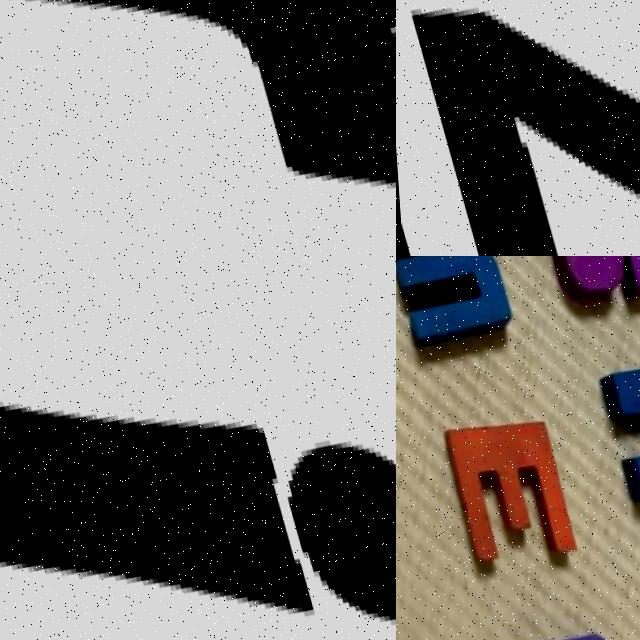E: (437, 407, 577, 579)
I: (0, 279, 396, 640)
K: (596, 357, 640, 513)
M: (396, 256, 509, 341)
R: (0, 0, 396, 256)
S: (534, 256, 640, 303)
Z: (400, 0, 640, 256)
